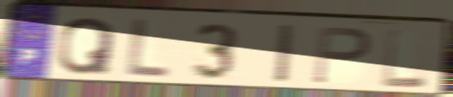3: (190, 22, 239, 81)
I: (273, 22, 297, 85)
L: (381, 26, 430, 90), (123, 17, 172, 81)
P: (310, 25, 374, 86)
Q: (55, 15, 118, 77)
